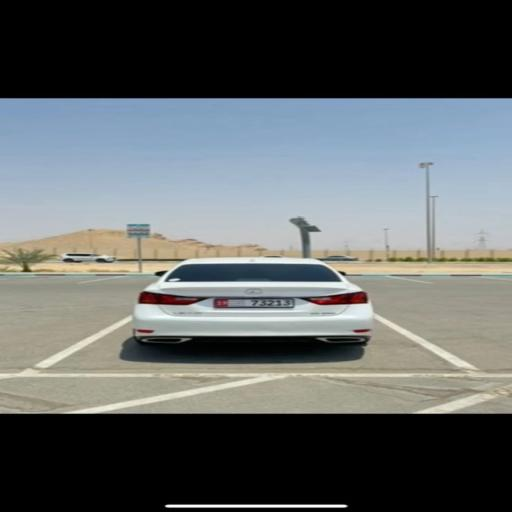license-plates: (214, 298, 293, 308)
